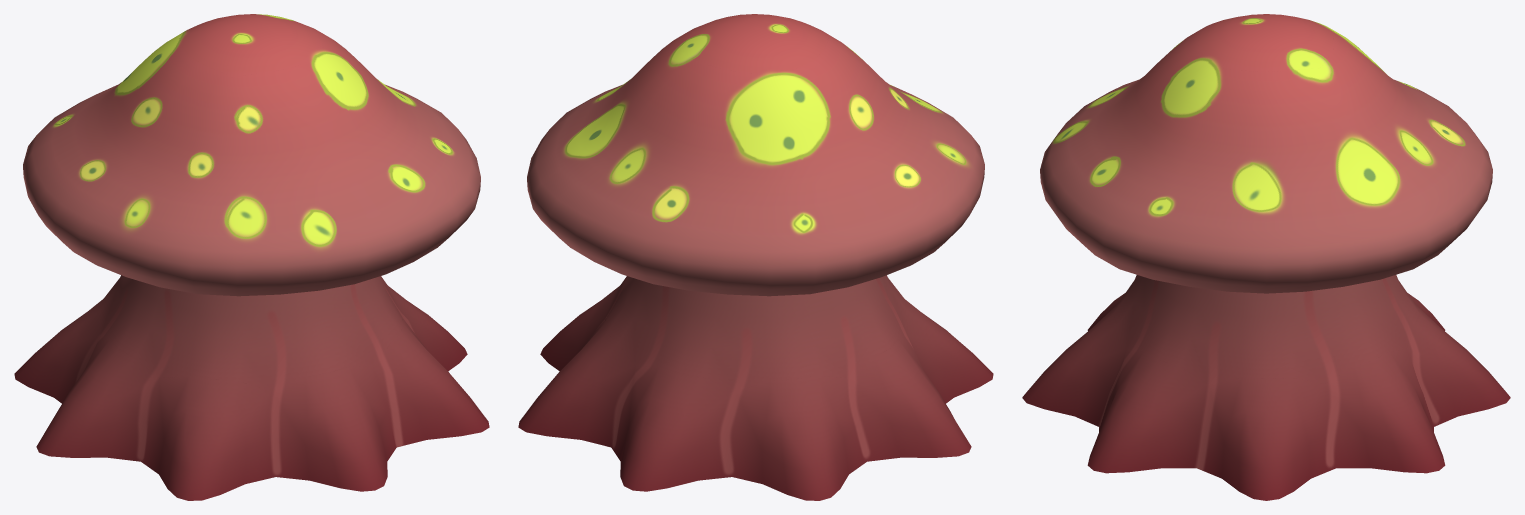
File: mushroom_flesh_meat.fbx
3 views of the same model, side by side, from view 1: azimuth 30°, elevation 25°; view 2: azimuth 150°, elevation 25°; view 3: azimuth 270°, elevation 25° (orthographic).
Visible parts, largest first — view 1: mushroom_Flesh; view 2: mushroom_Flesh; view 3: mushroom_Flesh.
Part boxes in pixels (x1=…): mushroom_Flesh: x1=14, y1=14, x2=489, y2=500; mushroom_Flesh: x1=518, y1=14, x2=993, y2=500; mushroom_Flesh: x1=1022, y1=14, x2=1510, y2=500.
Size of the model in its own units: 625 by 522 by 625.
1 material, 1 textured.
